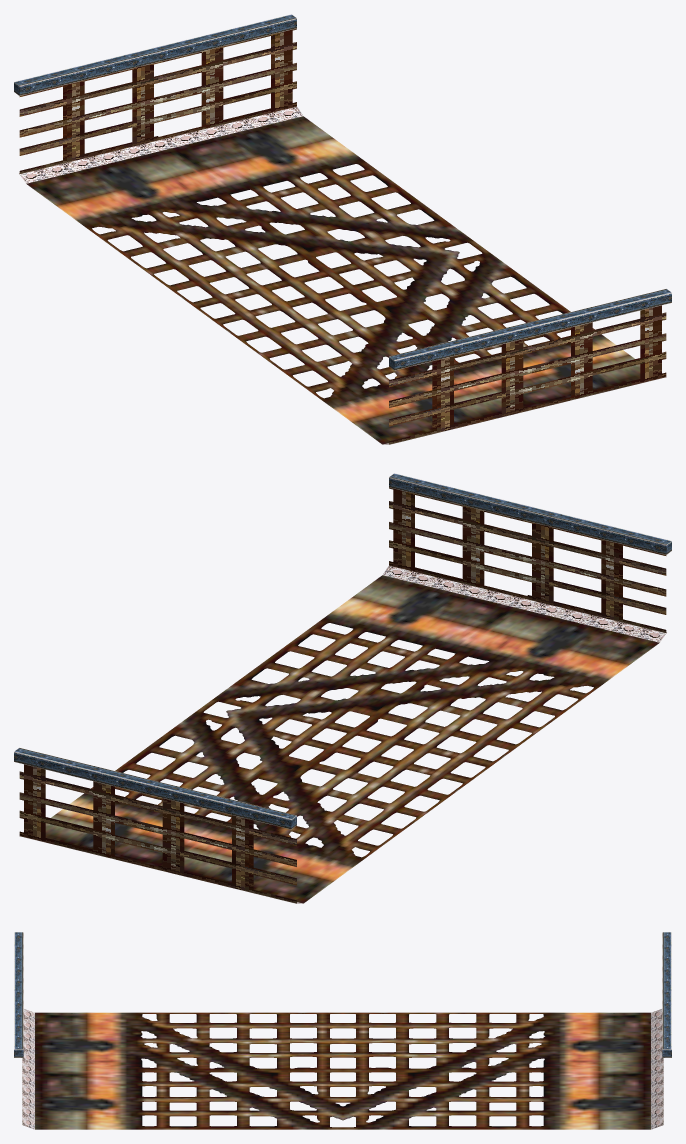
The model's file is WindyValleyBridgeSubdivided.obj.
The picture shows the model from 3 angles, top to bottom: view 1: azimuth 30°, elevation 25°; view 2: azimuth 150°, elevation 25°; view 3: azimuth 270°, elevation 25°; orthographic projection. The views are drawn at different scales.
Parts seen in each view (by area): view 1: Plane_Plane.001; view 2: Plane_Plane.001; view 3: Plane_Plane.001.
Boxes of the visible parts, x1,y1,x2,y2 form: Plane_Plane.001: (14,14,671,444); Plane_Plane.001: (14,473,671,903); Plane_Plane.001: (14,932,671,1129).
Size of the model in its own units: 0.8631 by 0.2766 by 2.05.
Materials: 4 (4 with a texture image).
